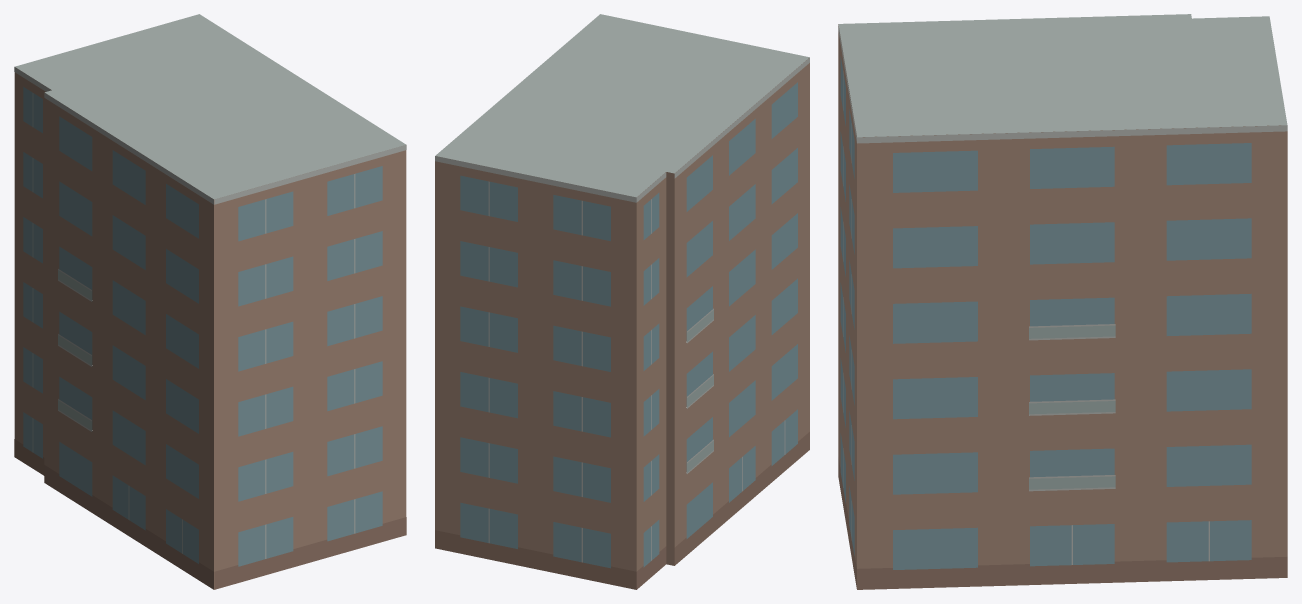
Rendered from survey-upis-32604324.glb.
3 renders of one model, left to right at view 1: azimuth 30°, elevation 25°; view 2: azimuth 150°, elevation 25°; view 3: azimuth 270°, elevation 25°, orthographic. The views are drawn at different scales.
Visible parts, largest first — view 1: survey-upis-32604324.tmp; view 2: survey-upis-32604324.tmp; view 3: survey-upis-32604324.tmp.
Part boxes in pixels (box(x1,y1,x2,y2)): survey-upis-32604324.tmp: box(14, 14, 406, 589); survey-upis-32604324.tmp: box(435, 14, 809, 589); survey-upis-32604324.tmp: box(838, 14, 1287, 589).
Bounding box in the file's own units: 10.39 × 17.77 × 15.99.
